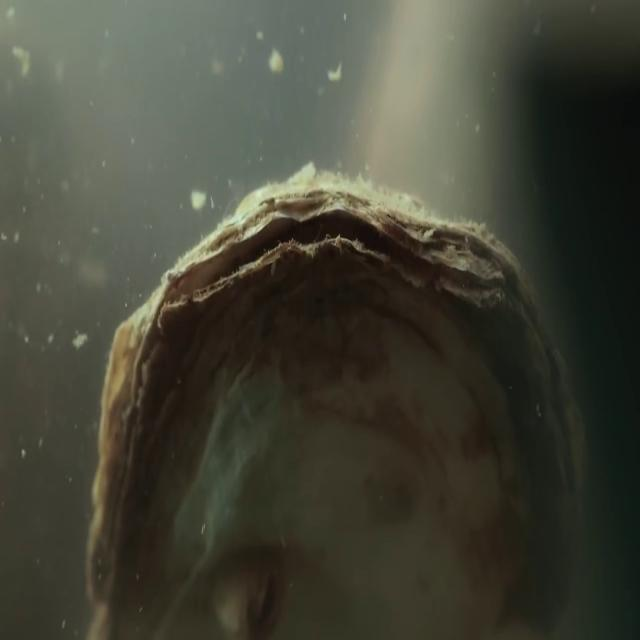Oyster-Closed: (86, 146, 605, 637)
